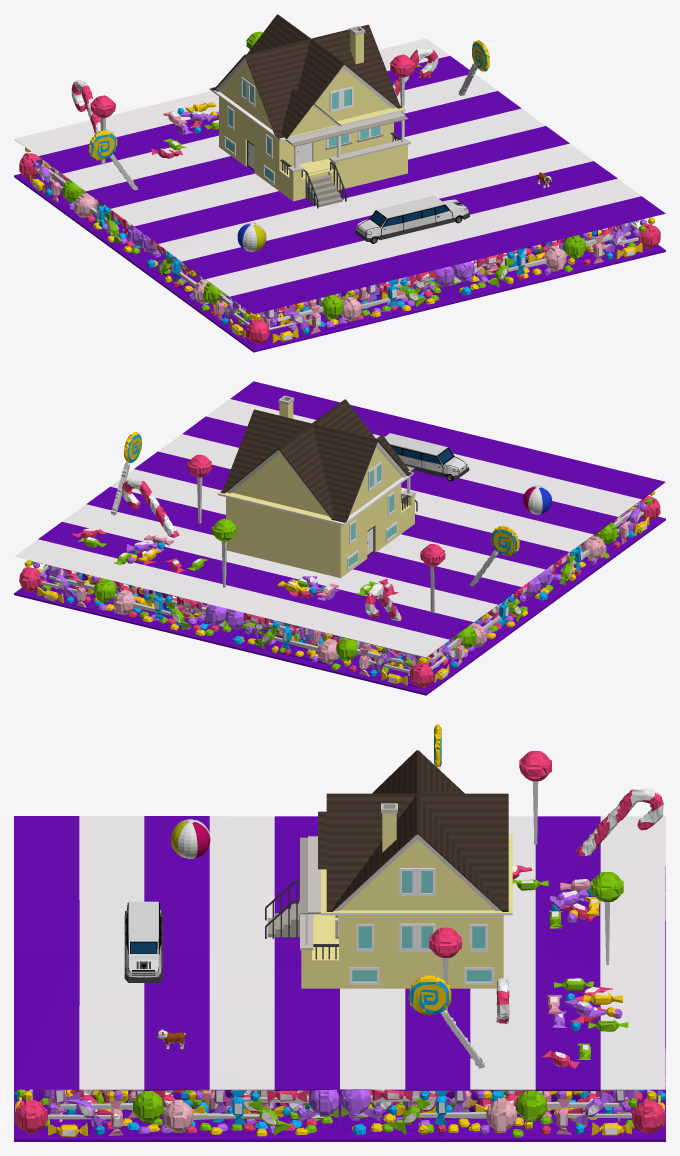
3 renders of one model, top to bottom at view 1: azimuth 30°, elevation 25°; view 2: azimuth 150°, elevation 25°; view 3: azimuth 270°, elevation 25°, orthographic. The views are drawn at different scales.
Parts seen in each view (by area): view 1: TERRAIN_CANDY, Cube.1555, VEHICLES_LIMOUSINE, OBJRANDOM_BEACHBALL; view 2: TERRAIN_CANDY, Cube.1555, VEHICLES_LIMOUSINE, OBJRANDOM_BEACHBALL; view 3: TERRAIN_CANDY, Cube.1555, VEHICLES_LIMOUSINE, OBJRANDOM_BEACHBALL.
Part boxes in pixels (box(x1,y1,x2,y2)): TERRAIN_CANDY: box(14, 31, 665, 352); Cube.1555: box(209, 14, 410, 208); VEHICLES_LIMOUSINE: box(355, 195, 469, 243); OBJRANDOM_BEACHBALL: box(237, 222, 266, 251); TERRAIN_CANDY: box(14, 381, 665, 695); Cube.1555: box(217, 395, 417, 578); VEHICLES_LIMOUSINE: box(375, 433, 469, 481); OBJRANDOM_BEACHBALL: box(523, 485, 552, 514); TERRAIN_CANDY: box(14, 724, 665, 1141); Cube.1555: box(265, 750, 512, 988); VEHICLES_LIMOUSINE: box(124, 901, 162, 982); OBJRANDOM_BEACHBALL: box(171, 819, 210, 858).
Size of the model in its own units: 4059 by 1599 by 4000.
34 materials, 2 textured.
